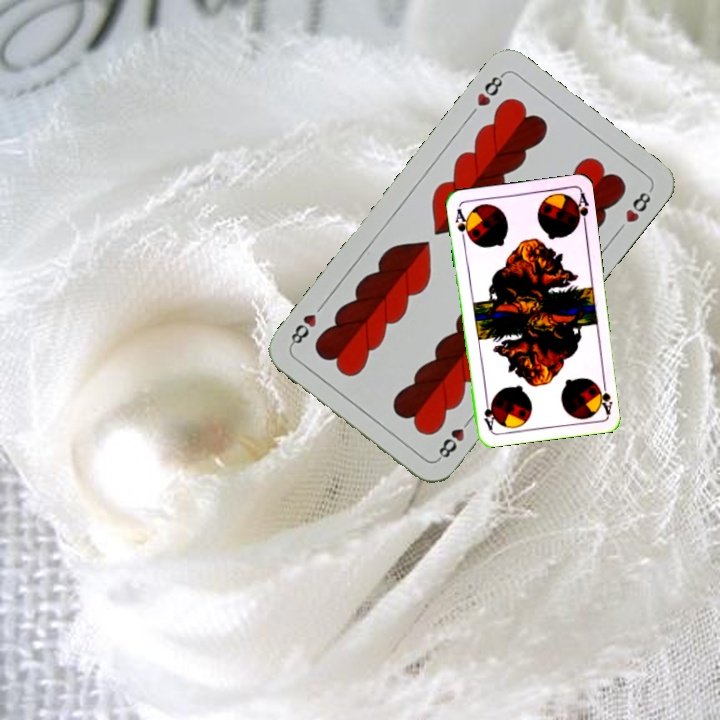H8: (433, 413, 475, 463), (472, 69, 507, 110)
SA: (451, 204, 473, 244), (593, 376, 615, 416)
